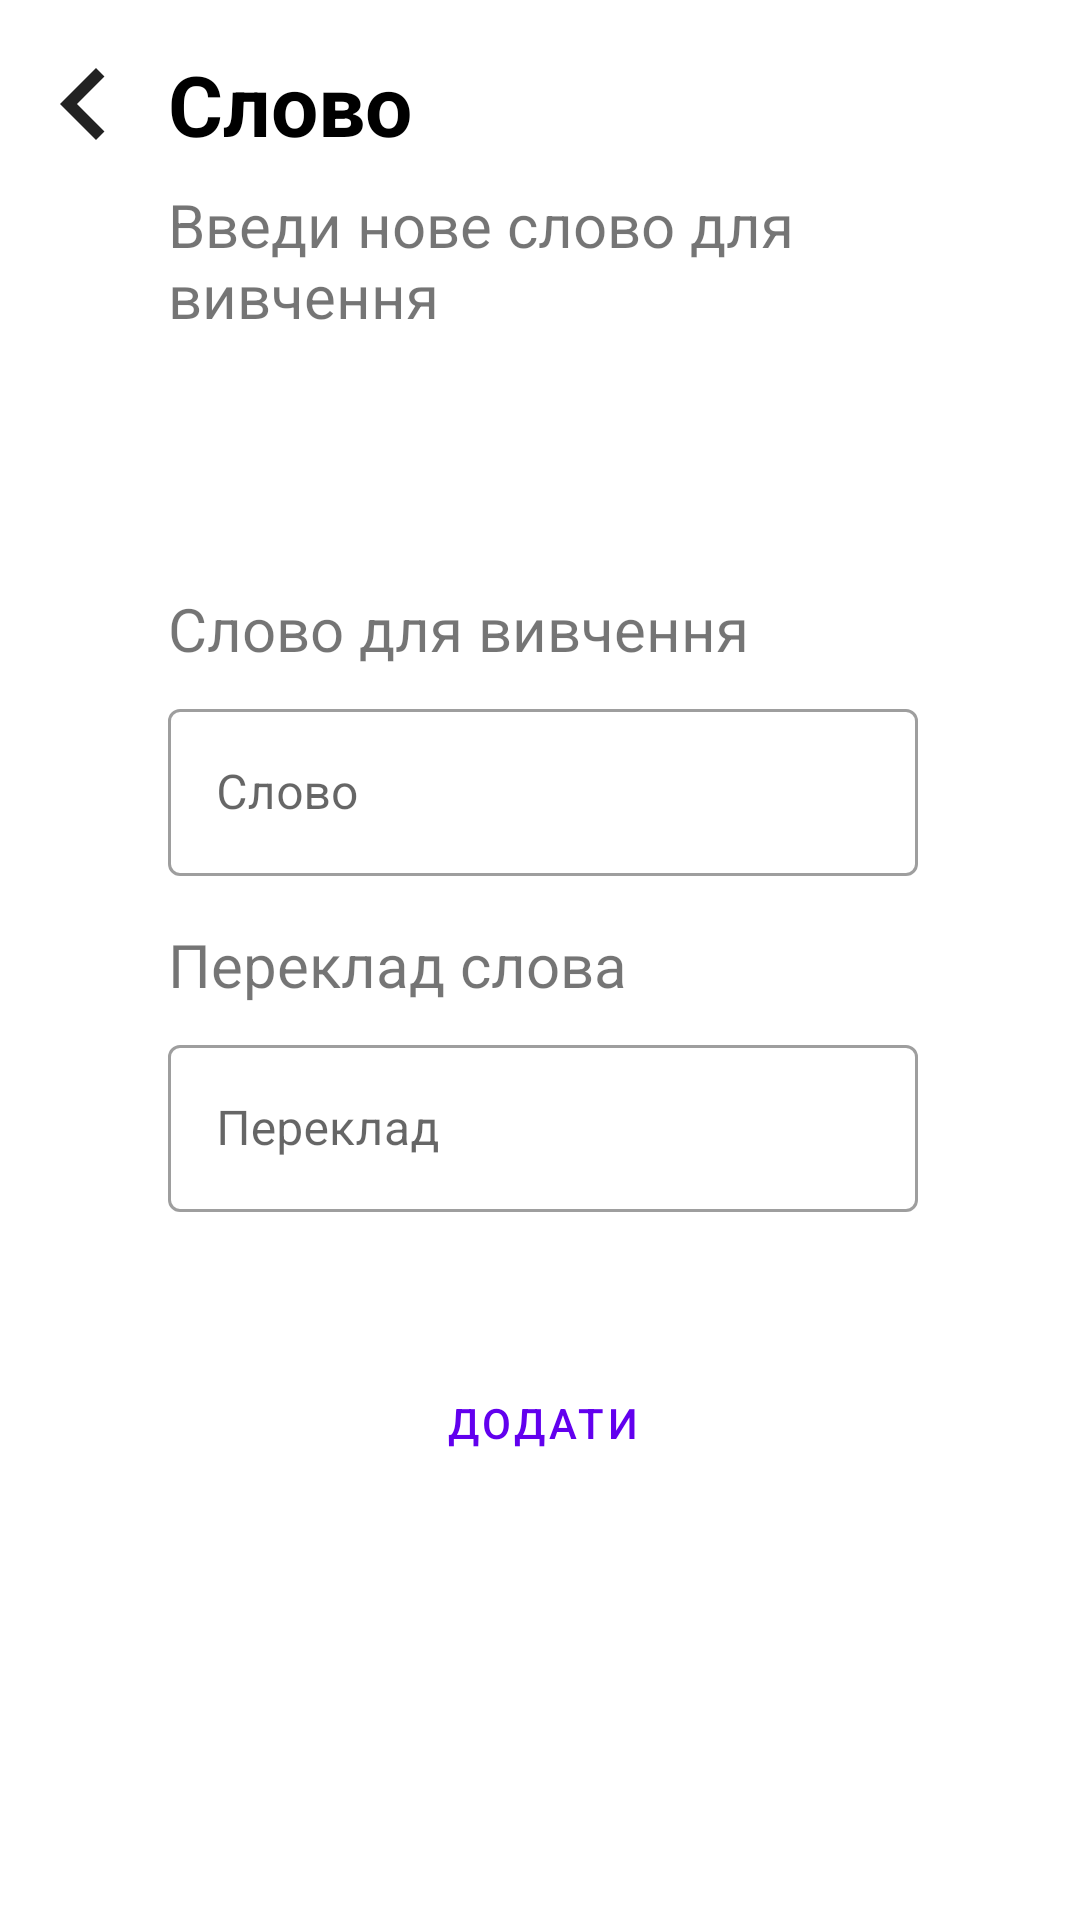

Icons on this 1080 x 1920 Android screen, each with its box as (x1, y1, x2, y2):
back: (60, 68, 105, 140)
